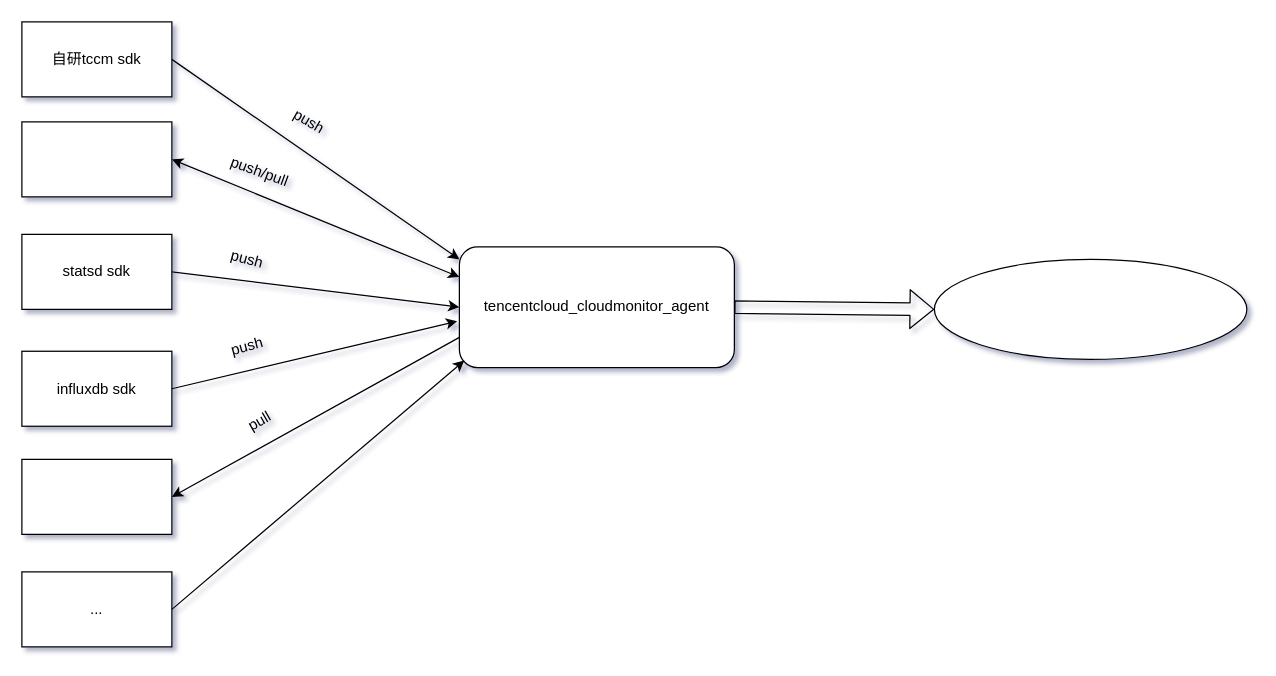
Some shapes in this 1276 by 676 pixel diagram are drawn without their labels. The box of each missing label's shape, as (x1, y1, x2, y2) in pixels:
kafka: (21, 458, 172, 534)
prometheus sdk: (21, 121, 172, 197)
云监控中台: (933, 258, 1247, 359)
